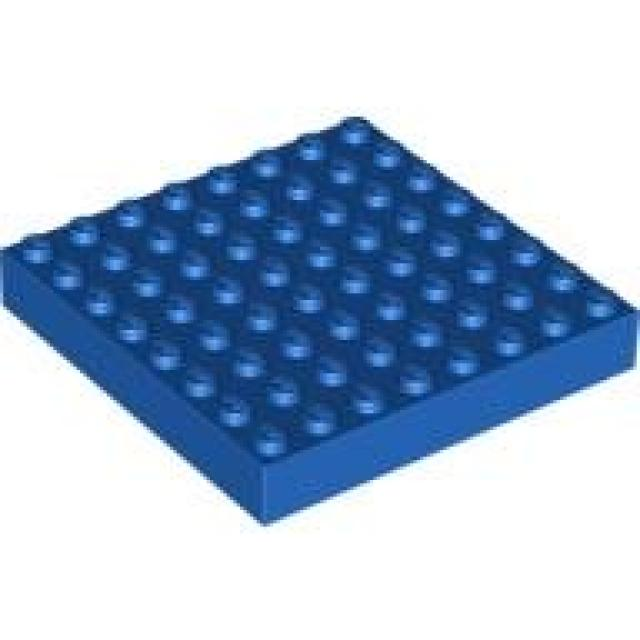Blue_Large: (3, 117, 640, 530)
